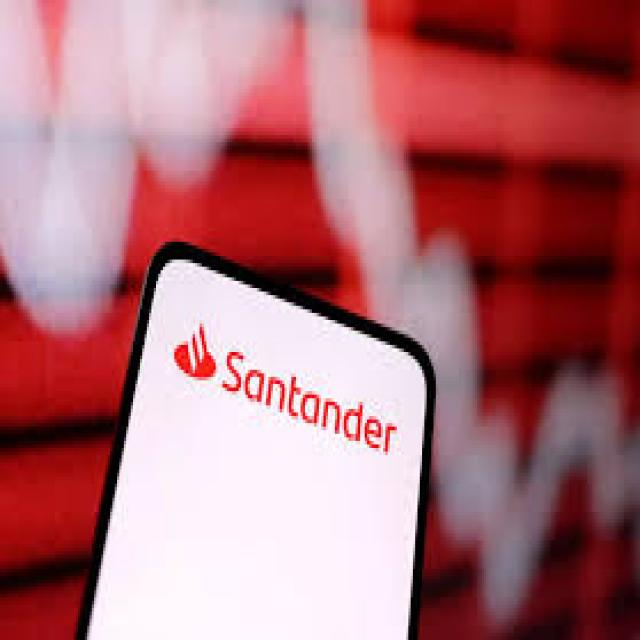santander: (172, 320, 217, 378)
